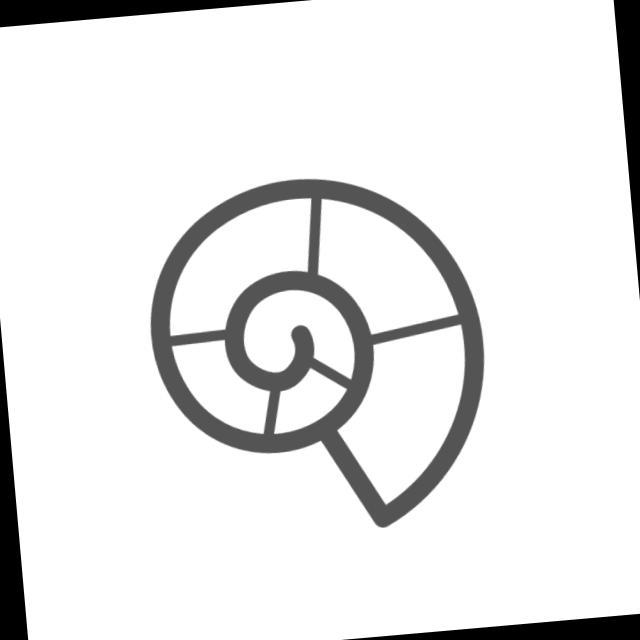fossil: (130, 157, 505, 553)
